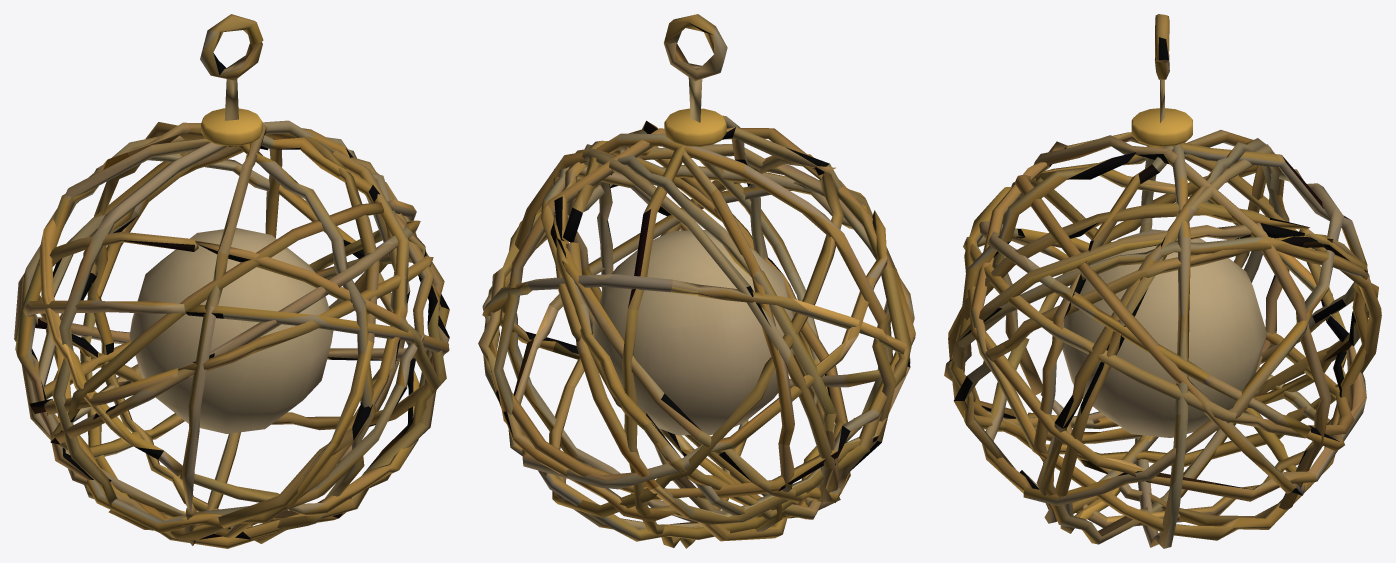
Rendered from lantern_yarnball.glb.
3 views of the same model, side by side, from view 1: azimuth 30°, elevation 25°; view 2: azimuth 150°, elevation 25°; view 3: azimuth 270°, elevation 25° (orthographic).
Visible parts, largest first — view 1: prop_lantern_yarnball_felt, prop_lantern_yarnball_paper, prop_lantern_yarnball_brass; view 2: prop_lantern_yarnball_felt, prop_lantern_yarnball_paper, prop_lantern_yarnball_brass; view 3: prop_lantern_yarnball_felt, prop_lantern_yarnball_paper, prop_lantern_yarnball_brass.
Boxes of the visible parts, x1,y1,x2,y2 form: prop_lantern_yarnball_felt: [14, 14, 449, 548]; prop_lantern_yarnball_paper: [129, 228, 333, 433]; prop_lantern_yarnball_brass: [201, 108, 262, 146]; prop_lantern_yarnball_felt: [478, 14, 915, 548]; prop_lantern_yarnball_paper: [592, 230, 794, 435]; prop_lantern_yarnball_brass: [664, 108, 726, 146]; prop_lantern_yarnball_felt: [944, 14, 1381, 548]; prop_lantern_yarnball_paper: [1062, 229, 1266, 437]; prop_lantern_yarnball_brass: [1131, 108, 1192, 146].
Size of the model in its own units: 0.1666 by 0.2182 by 0.1673.
Materials: 3 (2 with a texture image).
